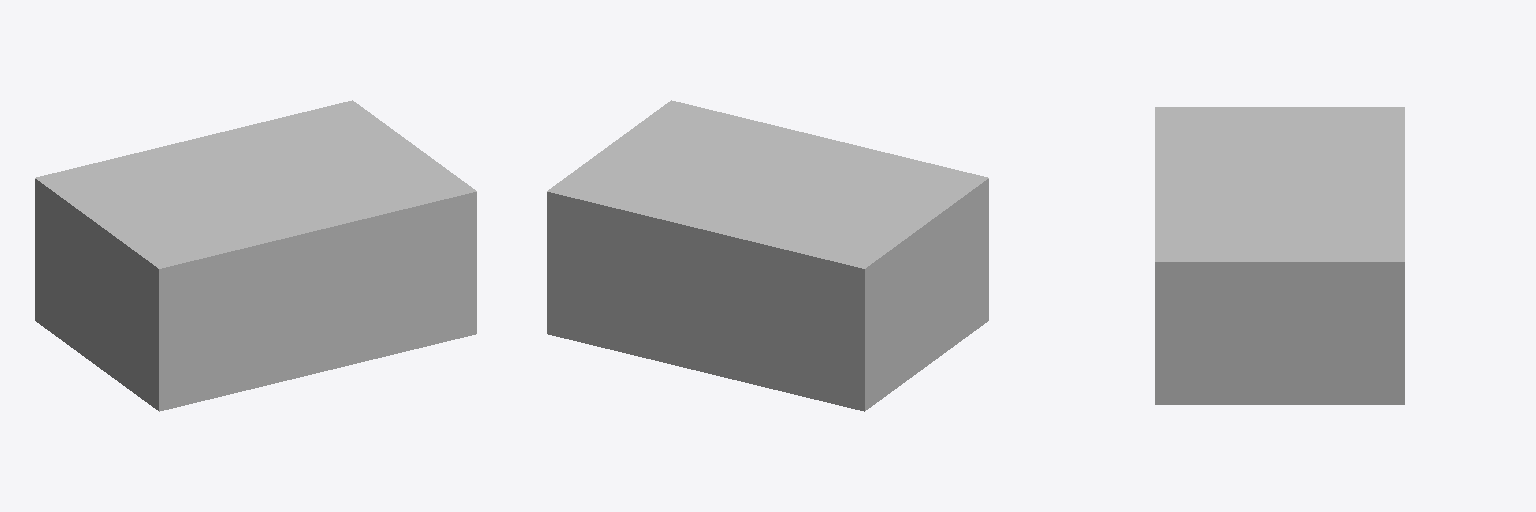
Rendered from box_vhacd.obj.
The picture shows the model from 3 angles: view 1: azimuth 30°, elevation 25°; view 2: azimuth 150°, elevation 25°; view 3: azimuth 270°, elevation 25°; orthographic projection.
Bounding box in the file's own units: 140 × 60 × 95.